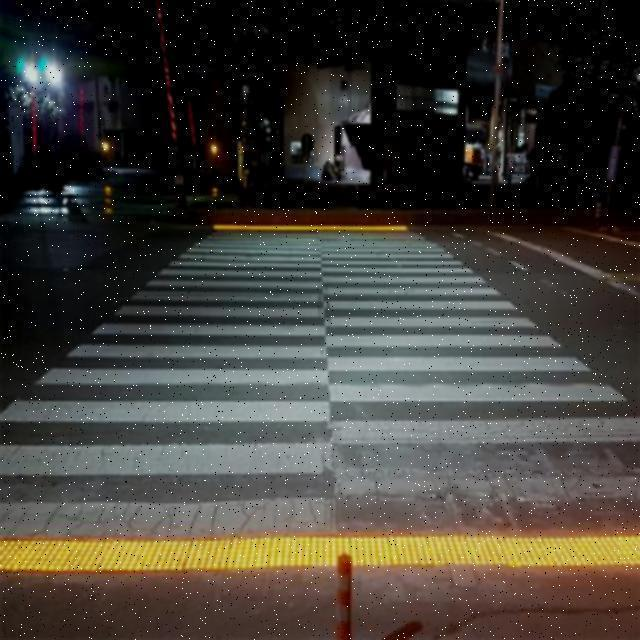crosswalk: (0, 228, 340, 542), (325, 228, 640, 501)
